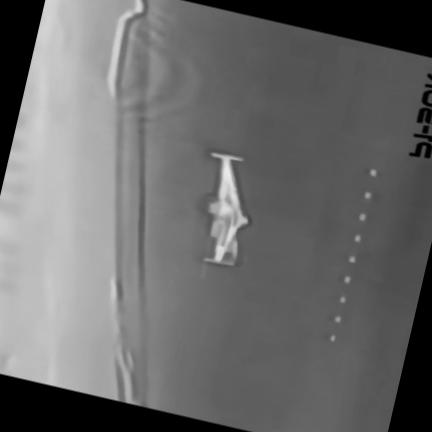Shahed: (203, 151, 249, 265)
